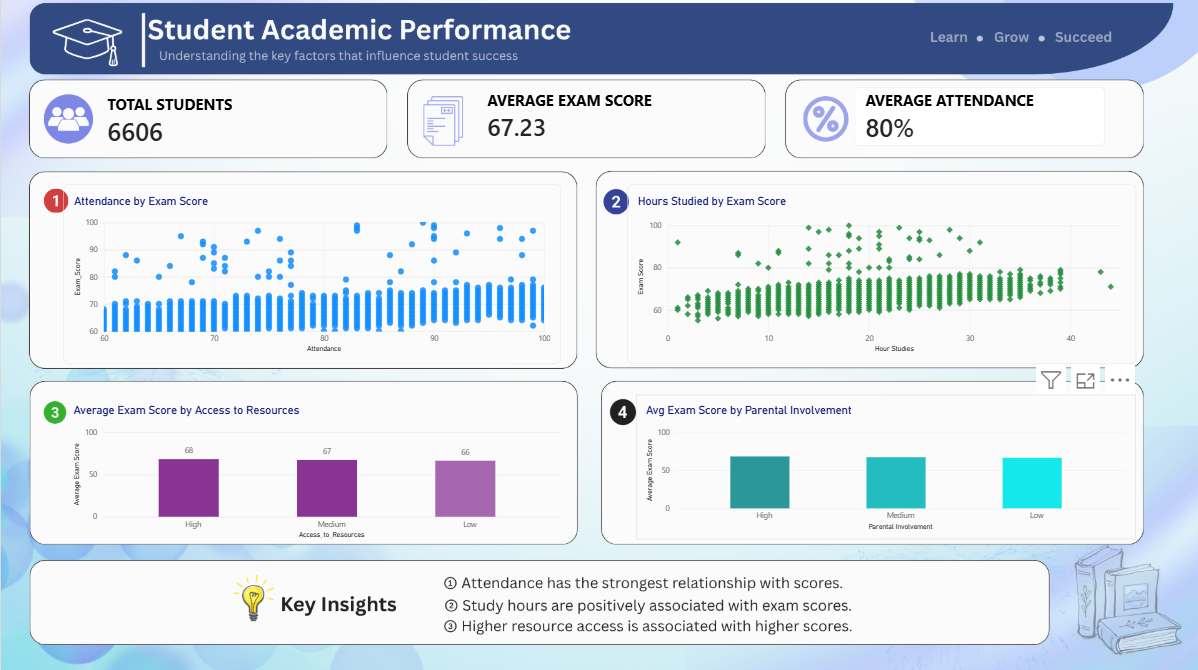

What the dashboard file says about the page in this screenshot:
{"tool":"powerbi","page":{"name":"Page 1","canvas":[1920,1080],"ordinal":0},"visuals":[{"type":"cardVisual","fields":{"Data":["CountNonNull(StudentPerformanceFactors_clean.Exam_Score)"]},"box":[154,144,370,110],"z":0},{"type":"cardVisual","fields":{"Data":["Avg(StudentPerformanceFactors_clean.Exam_Score)"]},"box":[762,144,396,94],"z":1000},{"type":"cardVisual","fields":{"Data":["StudentPerformanceFactors_clean.Average Attendance"]},"box":[1366,144,400,94],"z":2000},{"type":"scatterChart","title":"Attendance by Exam Score","fields":{"X":["StudentPerformanceFactors_clean.Attendance"],"Y":["StudentPerformanceFactors_clean.Exam_Score"]},"box":[100,300,796,286],"z":3000},{"type":"scatterChart","title":"Hours Studied by Exam Score","fields":{"X":["StudentPerformanceFactors_clean.Hours_Studied"],"Y":["StudentPerformanceFactors_clean.Exam_Score"]},"box":[1002,300,814,286],"z":4000},{"type":"columnChart","title":"Average Exam Score by Access to Resources","fields":{"Category":["StudentPerformanceFactors_clean.Access_to_Resources"],"Y":["StudentPerformanceFactors_clean.Avg_exam_score"]},"box":[100,636,810,246],"z":5000},{"type":"columnChart","title":"Avg Exam Score by Parental Involvement","fields":{"Category":["StudentPerformanceFactors_clean.Parental_Involvement"],"Y":["StudentPerformanceFactors_clean.Avg_exam_score"]},"box":[1016.8,636,798.6,232.6],"z":6000}]}

Visuals, with their boxes in screenshot pixels (x1, y1, x2, y2), scaled from the page's 1920x1080 canvas onto the 1198x670 screenshot:
cardVisual - CountNonNull(StudentPerformanceFactors_clean.Exam_Score): bbox=(96, 89, 327, 158)
cardVisual - Avg(StudentPerformanceFactors_clean.Exam_Score): bbox=(475, 89, 723, 148)
cardVisual - StudentPerformanceFactors_clean.Average Attendance: bbox=(852, 89, 1102, 148)
"Attendance by Exam Score" scatterChart: bbox=(62, 186, 559, 364)
"Hours Studied by Exam Score" scatterChart: bbox=(625, 186, 1133, 364)
"Average Exam Score by Access to Resources" columnChart: bbox=(62, 395, 568, 547)
"Avg Exam Score by Parental Involvement" columnChart: bbox=(634, 395, 1133, 539)
